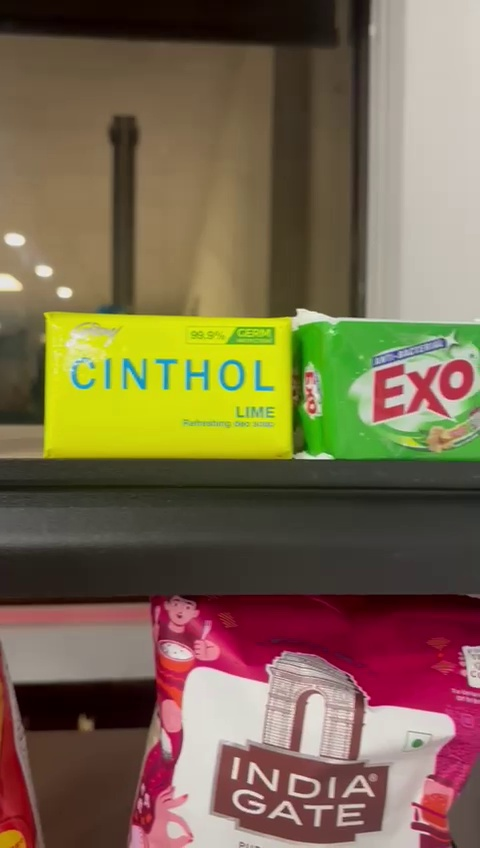Cinthol: (46, 310, 289, 461)
Exo Soap: (296, 316, 480, 456)
